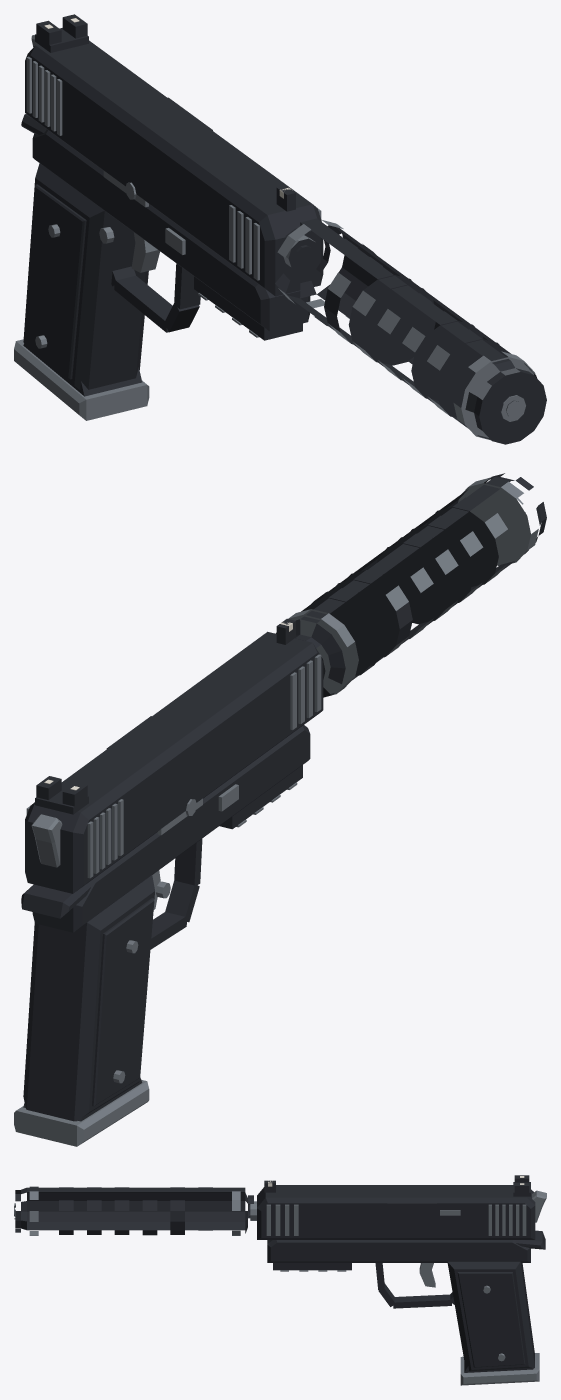
File: pistol_silenced_detail.glb
3 renders of one model, top to bottom at view 1: azimuth 30°, elevation 25°; view 2: azimuth 150°, elevation 25°; view 3: azimuth 270°, elevation 25°, orthographic. The views are drawn at different scales.
Visible parts, largest first — view 1: pistol_silenced_detail_mesh, SLIDE, SUPPRESSOR, MAGAZINE, TRIGGER; view 2: pistol_silenced_detail_mesh, SLIDE, SUPPRESSOR, MAGAZINE, HAMMER; view 3: pistol_silenced_detail_mesh, SLIDE, SUPPRESSOR, MAGAZINE, TRIGGER, HAMMER.
Part boxes in pixels (<box>): pistol_silenced_detail_mesh: <box>21,114,310,389</box>; SLIDE: <box>25,14,323,296</box>; SUPPRESSOR: <box>275,218,546,444</box>; MAGAZINE: <box>14,339,149,420</box>; TRIGGER: <box>131,232,159,272</box>; pistol_silenced_detail_mesh: <box>21,725,310,1121</box>; SLIDE: <box>25,618,323,893</box>; SUPPRESSOR: <box>276,473,546,697</box>; MAGAZINE: <box>14,1077,149,1146</box>; HAMMER: <box>31,814,62,867</box>; pistol_silenced_detail_mesh: <box>267,1230,545,1371</box>; SLIDE: <box>249,1175,535,1239</box>; SUPPRESSOR: <box>14,1186,253,1235</box>; MAGAZINE: <box>460,1353,539,1385</box>; TRIGGER: <box>419,1263,435,1287</box>; HAMMER: <box>532,1190,546,1222</box>.
Size of the model in its own units: 0.037 by 0.1482 by 0.3638.
Materials: 1 (1 with a texture image).
